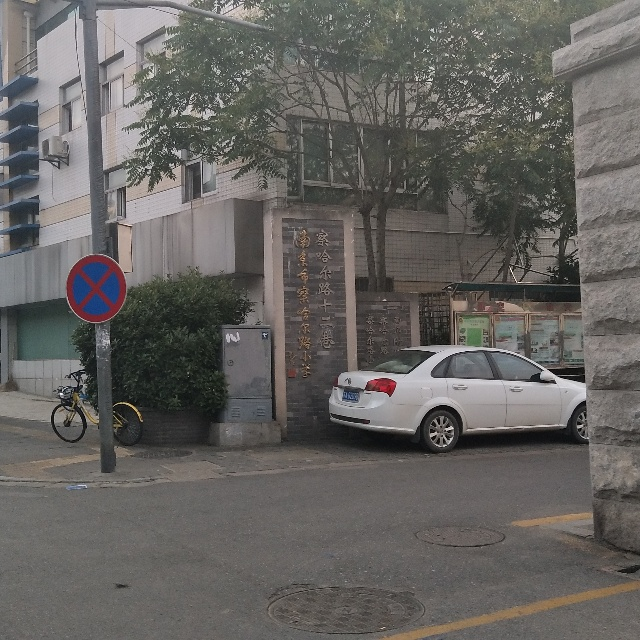stop: (66, 253, 126, 322)
